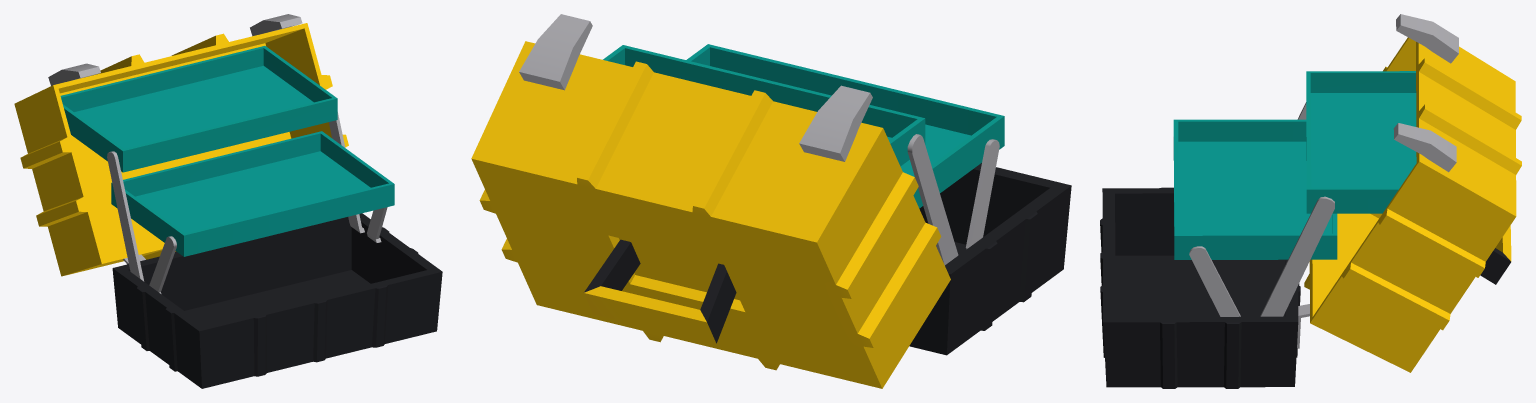
Rendered from Tool_box_opened.fbx.
3 views of the same model, side by side, from view 1: azimuth 30°, elevation 25°; view 2: azimuth 150°, elevation 25°; view 3: azimuth 270°, elevation 25° (orthographic). The views are drawn at different scales.
Parts seen in each view (by area): view 1: Tool_box_opened; view 2: Tool_box_opened; view 3: Tool_box_opened.
Boxes of the visible parts, x1,y1,x2,y2 form: Tool_box_opened: (14, 14, 442, 388); Tool_box_opened: (471, 14, 1071, 388); Tool_box_opened: (1100, 14, 1521, 388).
Size of the model in its own units: 83.75 by 100 by 65.62.
